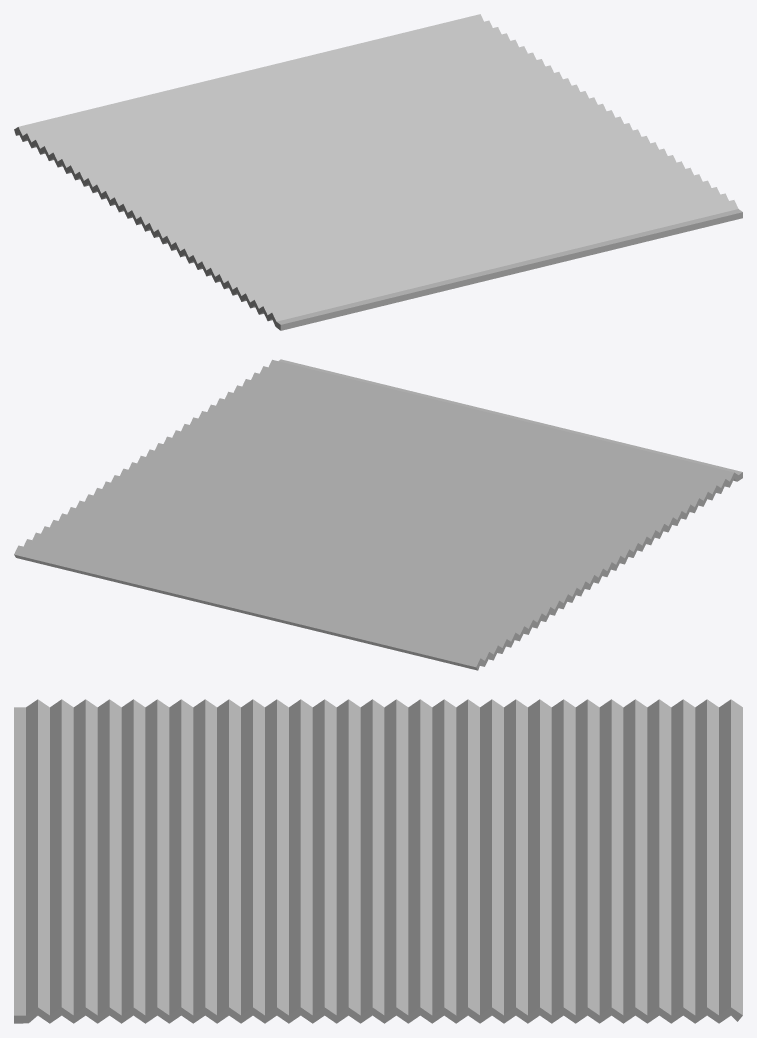
Rendered from roof_corrugated.glb.
3 views of the same model, one above another, from view 1: azimuth 30°, elevation 25°; view 2: azimuth 150°, elevation 25°; view 3: azimuth 270°, elevation 25° (orthographic). The views are drawn at different scales.
Visible parts, largest first — view 1: Roof_Corrugated; view 2: Roof_Corrugated; view 3: Roof_Corrugated.
Boxes of the visible parts, bbox=[...] form: Roof_Corrugated: bbox=[14, 14, 742, 330]; Roof_Corrugated: bbox=[14, 359, 742, 670]; Roof_Corrugated: bbox=[14, 699, 742, 1023].
Size of the model in its own units: 4 by 0.0996 by 4.
1 material, 1 textured.
